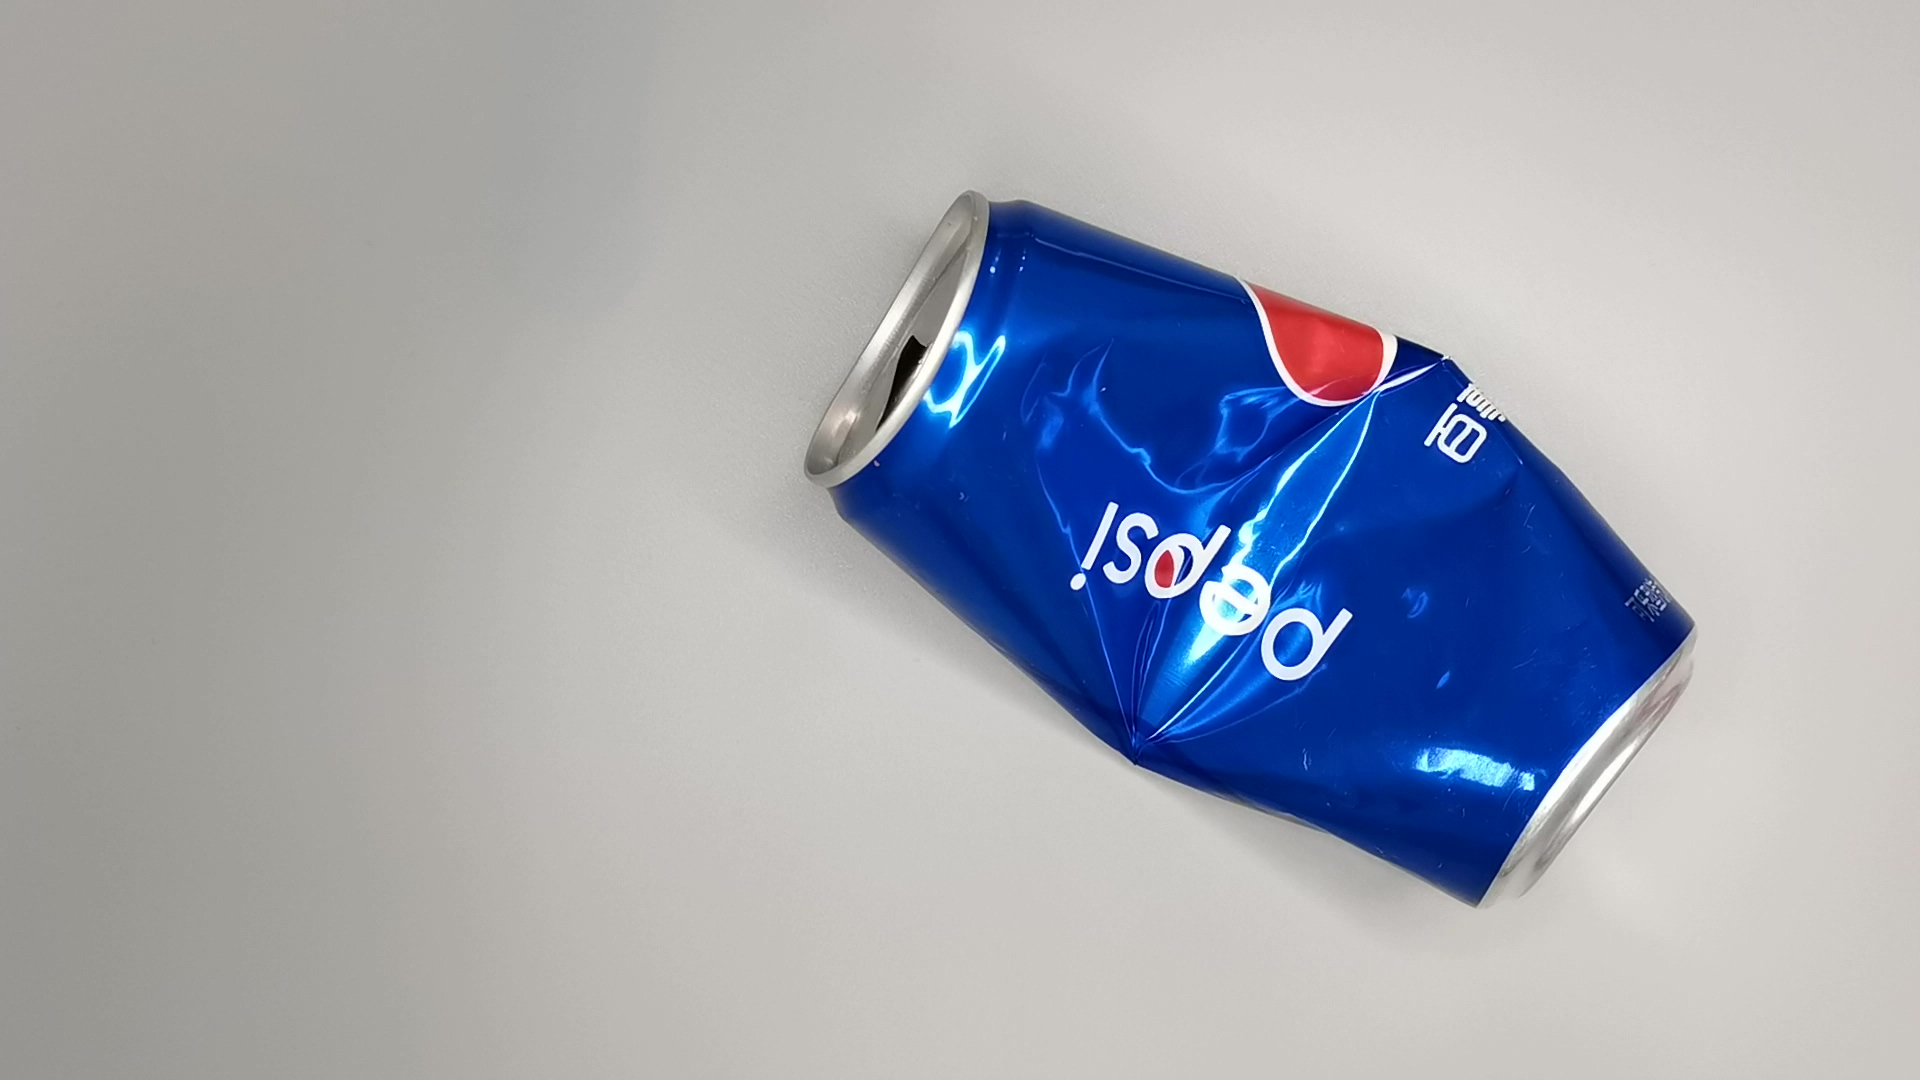can: (791, 179, 1702, 935)
